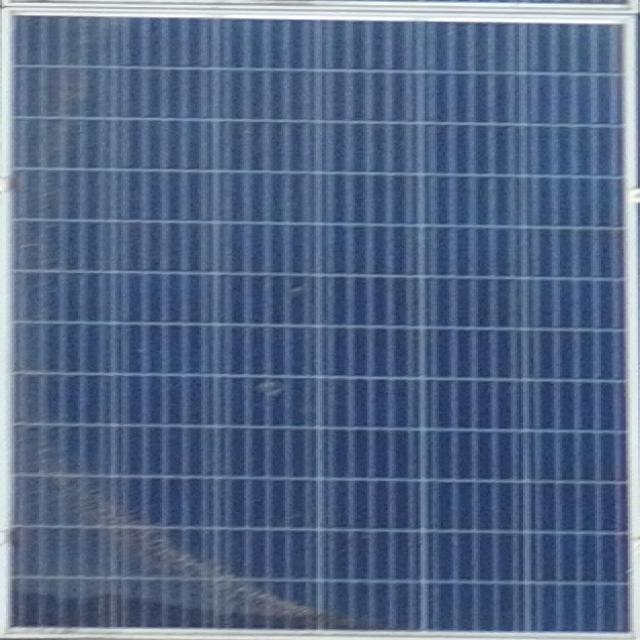Dust: (11, 458, 351, 639)
bird-droppings: (248, 374, 289, 398)
